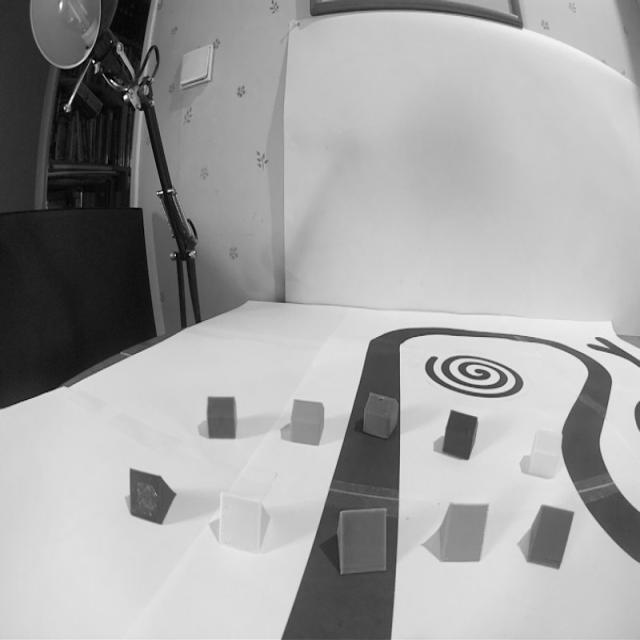home: (441, 410, 480, 462), (526, 429, 563, 479), (362, 392, 400, 440), (289, 398, 324, 446), (206, 396, 237, 440)
lineStraight: (278, 448, 406, 640)
nest: (425, 352, 526, 398)
triangle: (334, 506, 388, 577), (524, 504, 574, 568), (439, 502, 489, 564), (218, 492, 268, 554), (128, 469, 174, 524)
